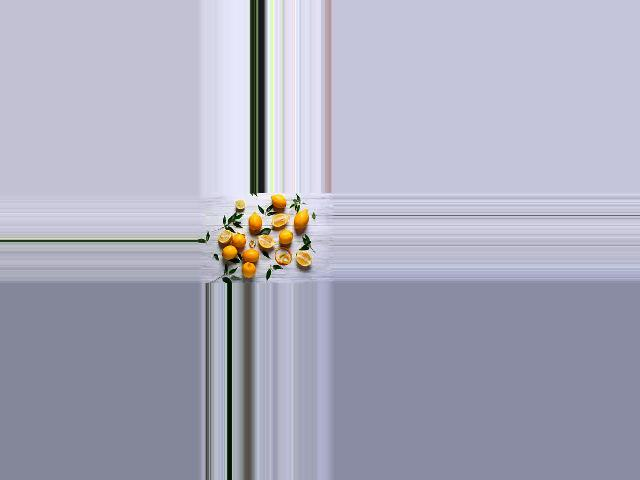lemon: (239, 261, 260, 276)
